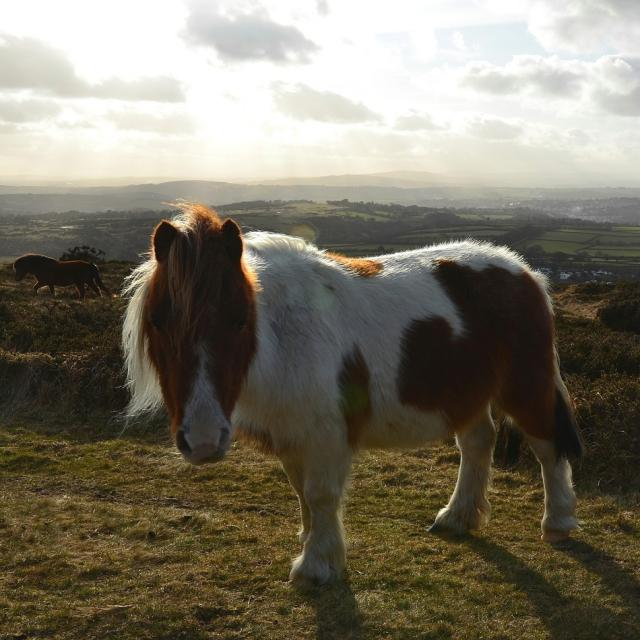Horse: (119, 199, 587, 582)
